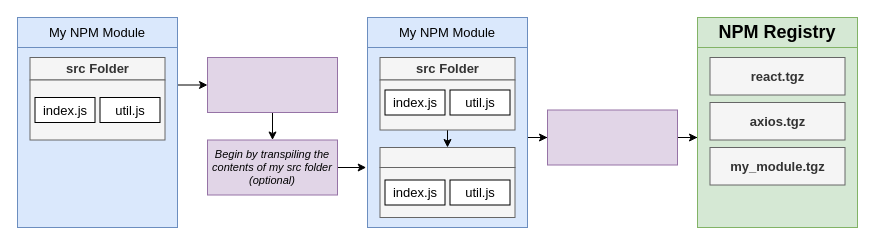
Some shapes in this 875 by 245 pixel diagram are drawn without their labels. The centre of each missing label's shape, as x and y in pixels:
Code Looks Good! Time to publish my module!: the point at 272,84
dist Folder: the point at 447,157
Push the 'dist' folder (plus some other stuff) to NPM in an archive: the point at 612,137
